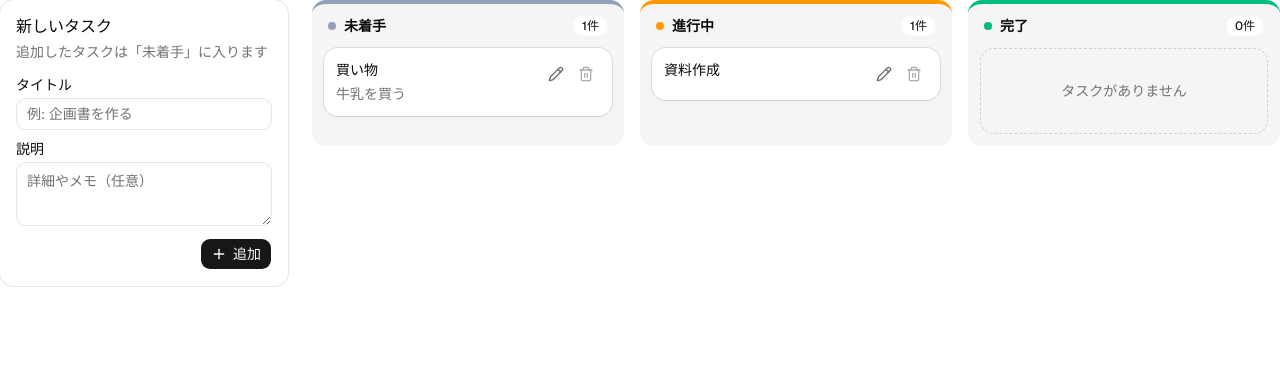
Test: 編集 › 更新に失敗したときはエラーが表示され、編集フォームが開いたままになる
Expected: the heading "買い物" is shown, [336,61,378,79]
Step 1. Click the button named "「買い物」を編集" → (556, 74), box [542,60,570,88]
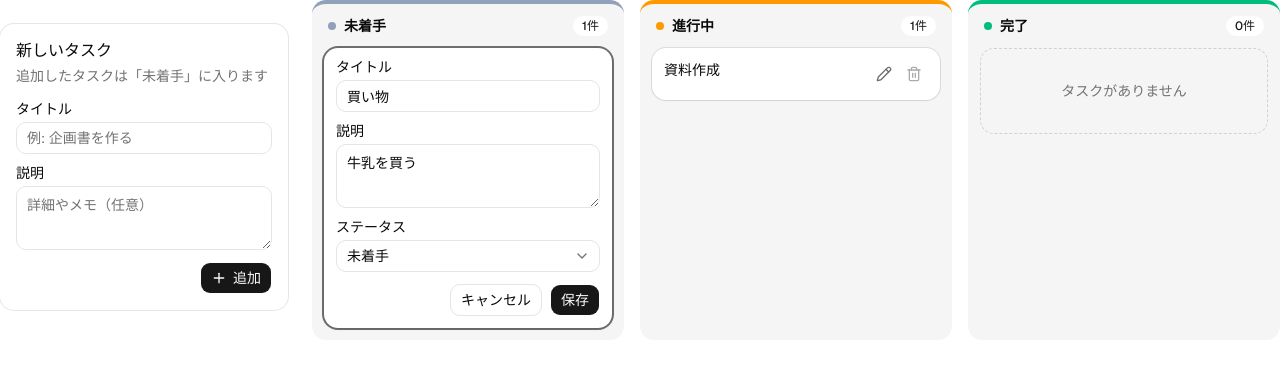
Step 2. Replace the text in the field labelled "タイトル" in the row of "タスクがありません" with "買い物（済）" → (468, 96), box [336,80,600,112]
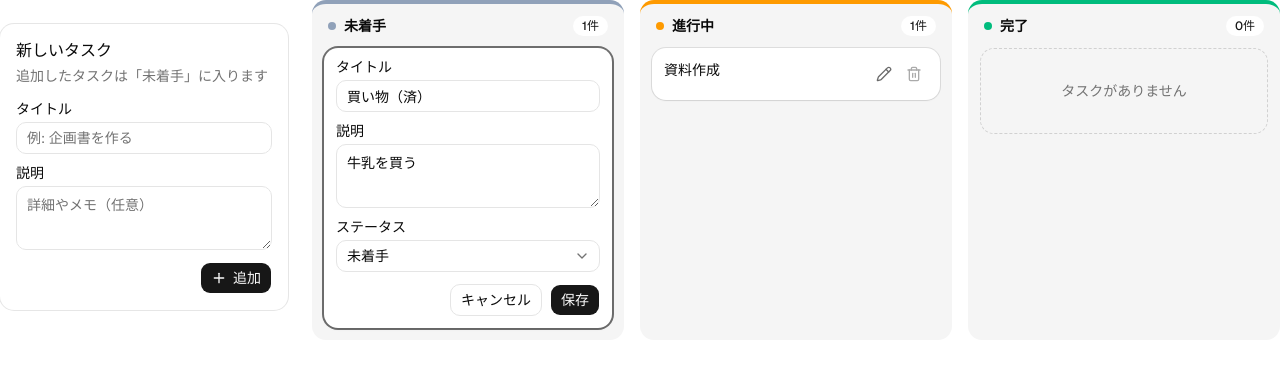
Step 3. Click the button "保存" → (575, 300), box [550,284,600,316]
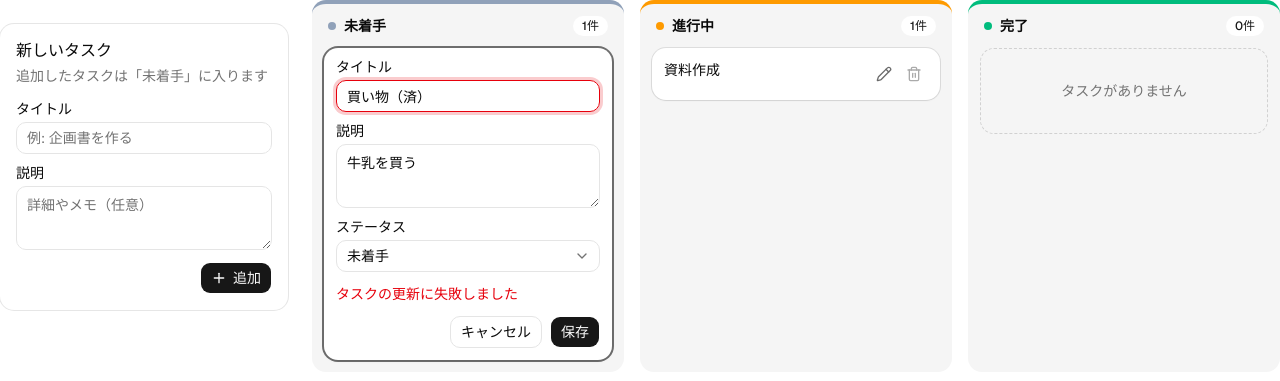
Expected: the form named "タスクを編集" is shown, [336,60,600,348]
Expected: the text "タスクの更新に失敗しました" is shown, [336,285,518,303]
